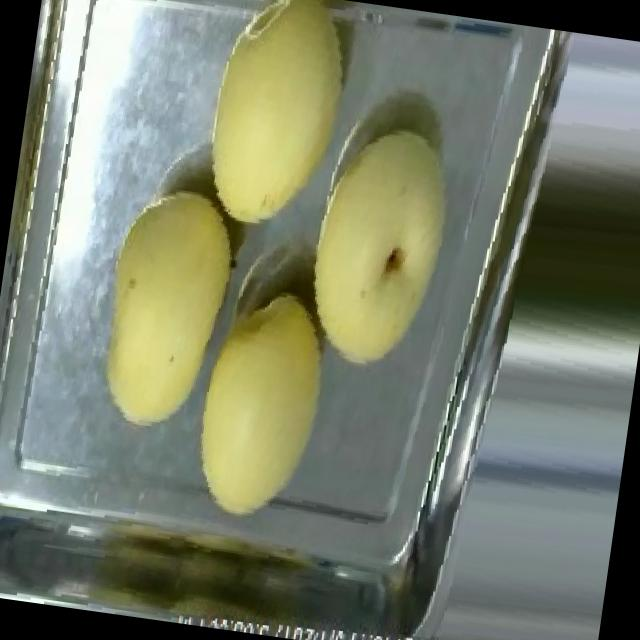Fruit: (283, 106, 478, 390), (80, 174, 257, 449), (186, 0, 374, 247), (173, 272, 348, 537)
